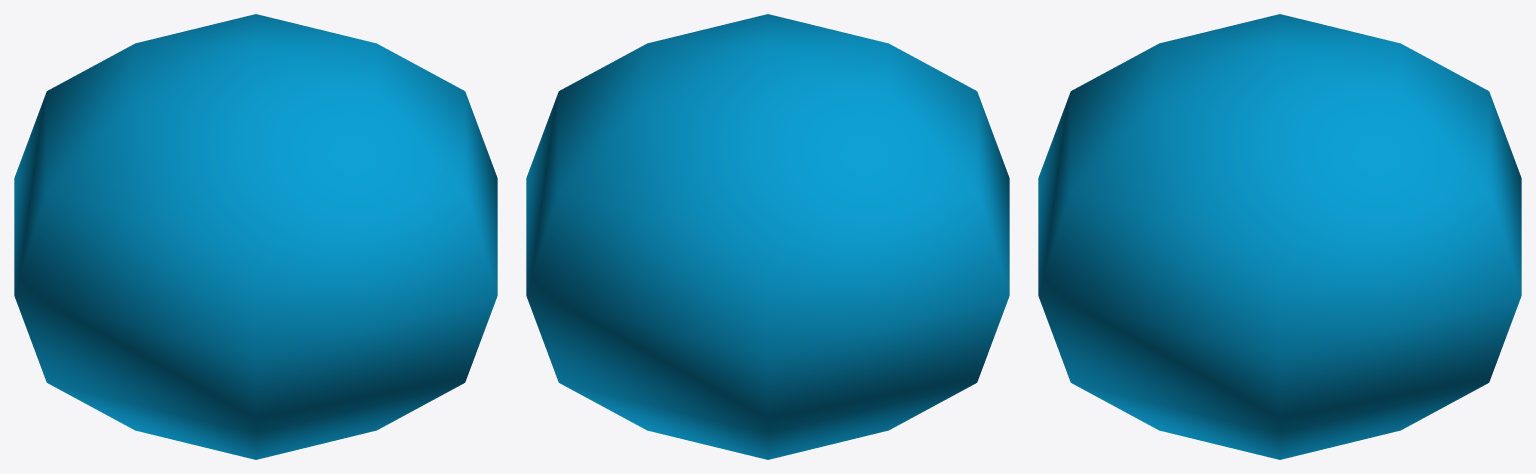
The model's file is planet.fbx.
3 views of the same model, side by side, from view 1: azimuth 30°, elevation 25°; view 2: azimuth 150°, elevation 25°; view 3: azimuth 270°, elevation 25° (orthographic).
Parts seen in each view (by area): view 1: Sphere; view 2: Sphere; view 3: Sphere.
Part boxes in pixels (x1,y1,x2,y2): Sphere: (14, 14, 497, 459); Sphere: (526, 14, 1009, 459); Sphere: (1038, 14, 1521, 459).
Bounding box in the file's own units: 2 × 1.5 × 1.73.
